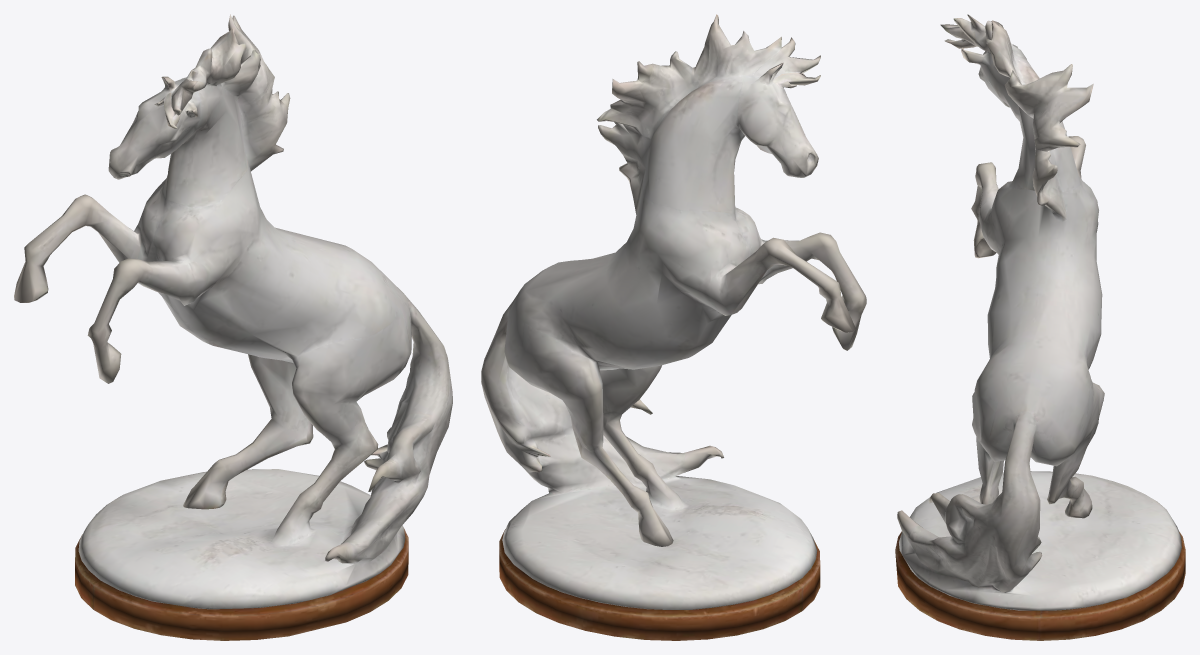
File: horse_statue_01.glb
3 renders of one model, left to right at view 1: azimuth 30°, elevation 25°; view 2: azimuth 150°, elevation 25°; view 3: azimuth 270°, elevation 25°, orthographic. The views are drawn at different scales.
Visible parts, largest first — view 1: horse_statue_01; view 2: horse_statue_01; view 3: horse_statue_01.
Part boxes in pixels (left/top/right/bottom): horse_statue_01: left=14, top=14, right=452, bottom=640; horse_statue_01: left=481, top=14, right=866, bottom=640; horse_statue_01: left=895, top=14, right=1185, bottom=640.
Size of the model in its own units: 0.1638 by 0.22 by 0.1078.
1 material, 1 textured.
